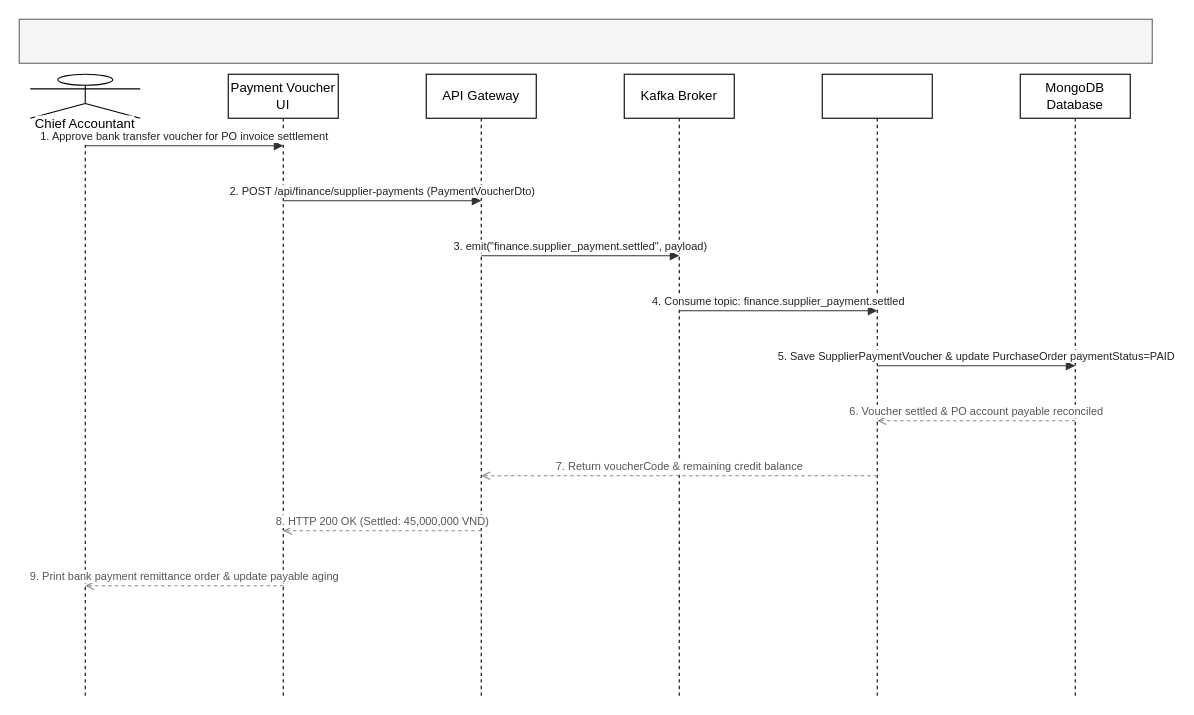
This 1194x715 diagram has some shape labels left out. The shapes that lost their labels are listed below. From the top down, each one's centre as x and y in pixels, then its label:
At (x=585, y=40): "Sequence Diagram - UC-104: Supplier Payment Voucher Settlement".
At (x=876, y=384): "Finance Service".
